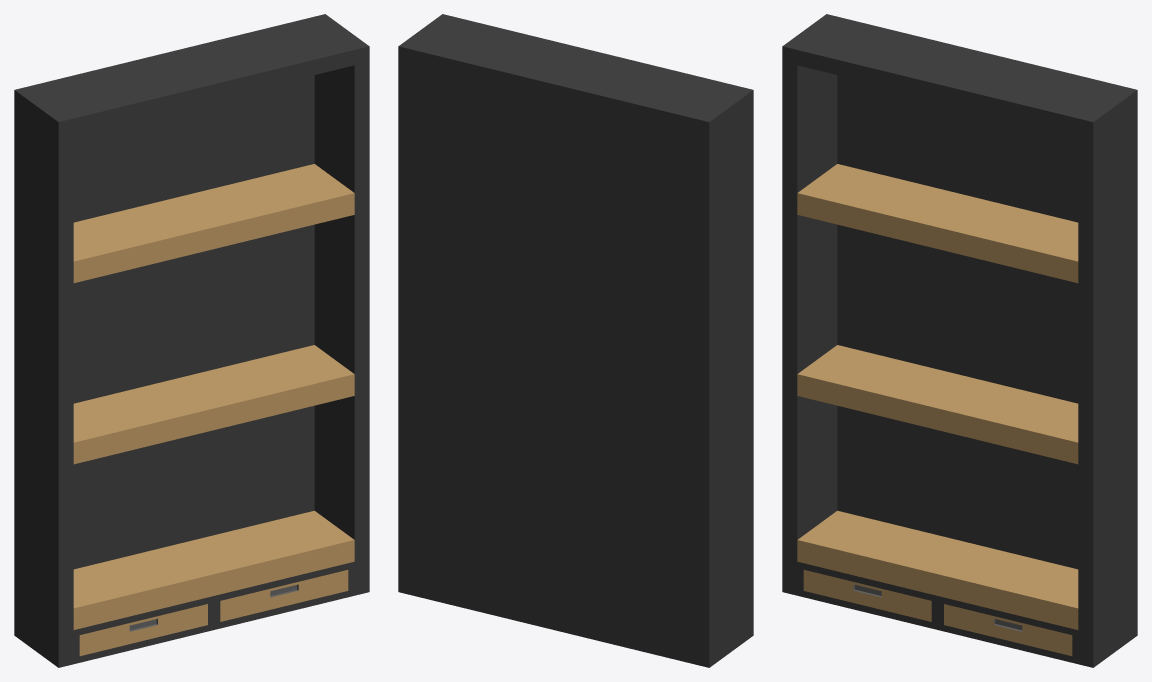
The model's file is BookshelfV2.fbx.
The picture shows the model from 3 angles, left to right: view 1: azimuth 30°, elevation 25°; view 2: azimuth 150°, elevation 25°; view 3: azimuth 330°, elevation 25°; orthographic projection.
Visible parts, largest first — view 1: BookshelfV2; view 2: BookshelfV2; view 3: BookshelfV2.
Part boxes in pixels (x1,y1,x2,y2): BookshelfV2: (14, 14, 369, 667); BookshelfV2: (398, 14, 753, 667); BookshelfV2: (782, 14, 1137, 667).
Bounding box in the file's own units: 116 × 194 × 28.47.
